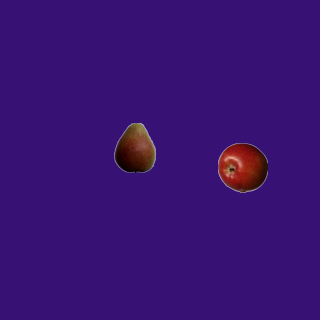Apple Braeburn: (217, 142, 267, 192)
Pear Forelle: (109, 122, 159, 172)
